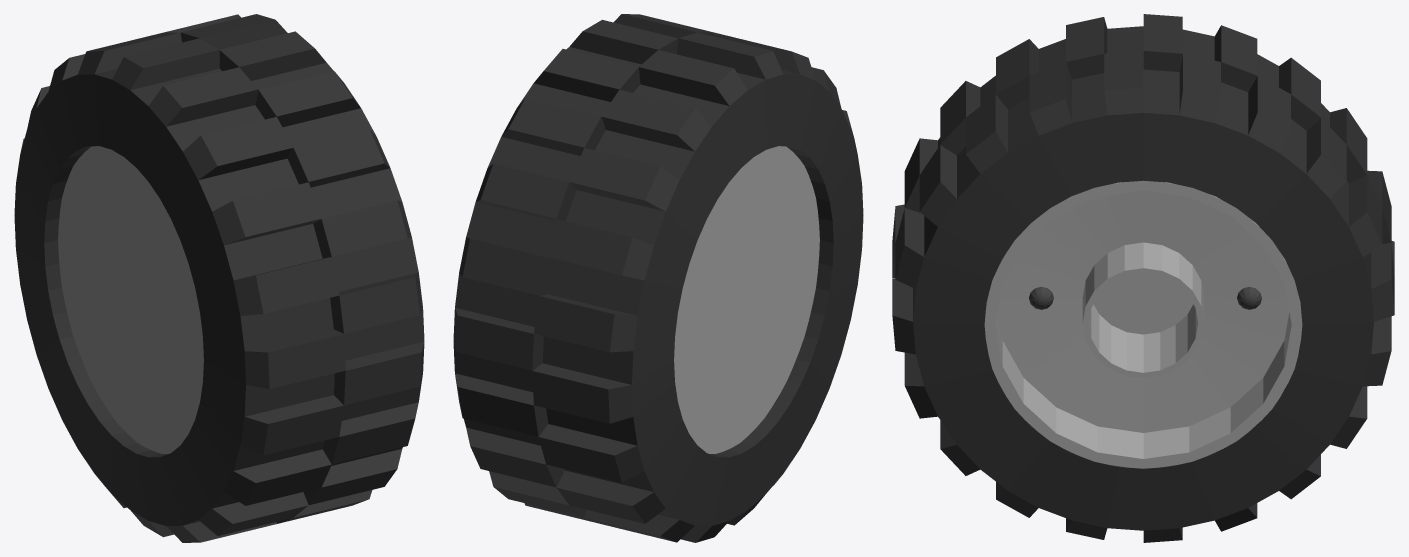
Rendered from ruedaTrasDer.obj.
3 renders of one model, left to right at view 1: azimuth 30°, elevation 25°; view 2: azimuth 150°, elevation 25°; view 3: azimuth 270°, elevation 25°, orthographic.
Visible parts, largest first — view 1: ruedaTrasDer:polySurface119; view 2: ruedaTrasDer:polySurface119; view 3: ruedaTrasDer:polySurface119.
Boxes of the visible parts, bbox=[...] form: ruedaTrasDer:polySurface119: bbox=[14, 14, 424, 542]; ruedaTrasDer:polySurface119: bbox=[453, 14, 863, 542]; ruedaTrasDer:polySurface119: bbox=[892, 14, 1394, 542].
Bounding box in the file's own units: 1.25 × 2.85 × 2.85.
Materials: 2 (2 with a texture image).
